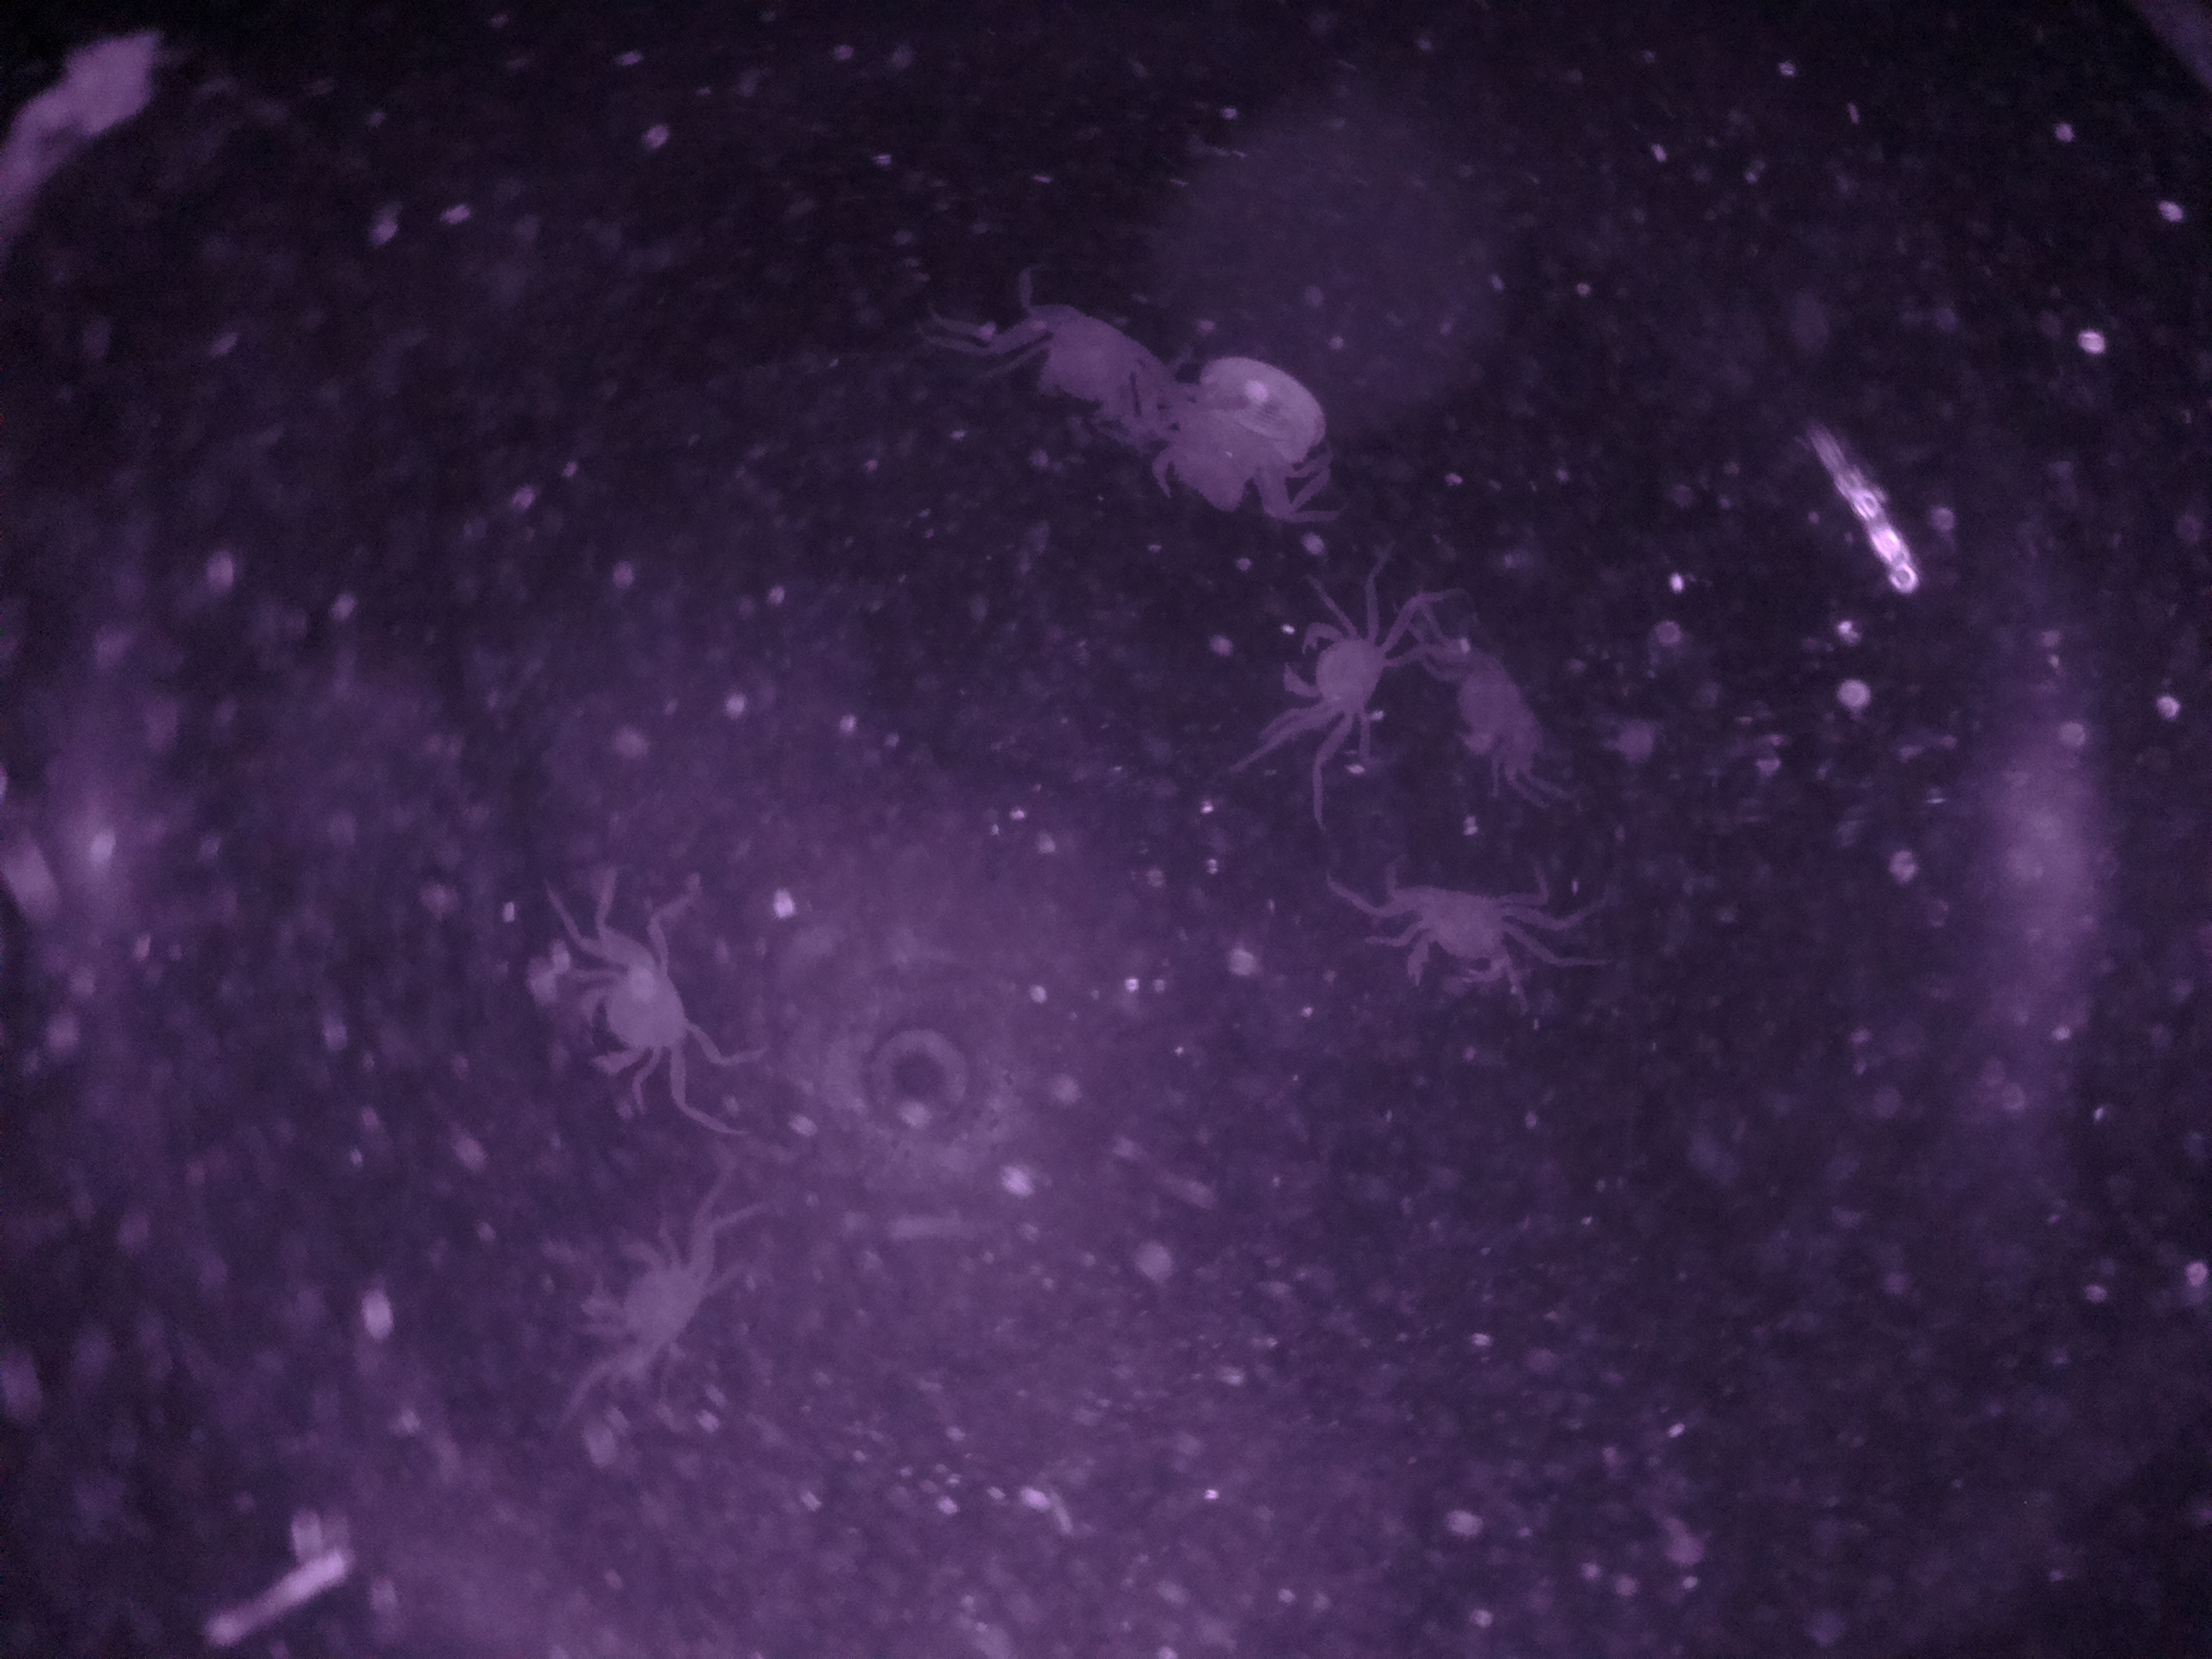Crab: (1249, 563, 1433, 803), (564, 1222, 756, 1406), (563, 890, 723, 1100), (1350, 873, 1575, 995)
